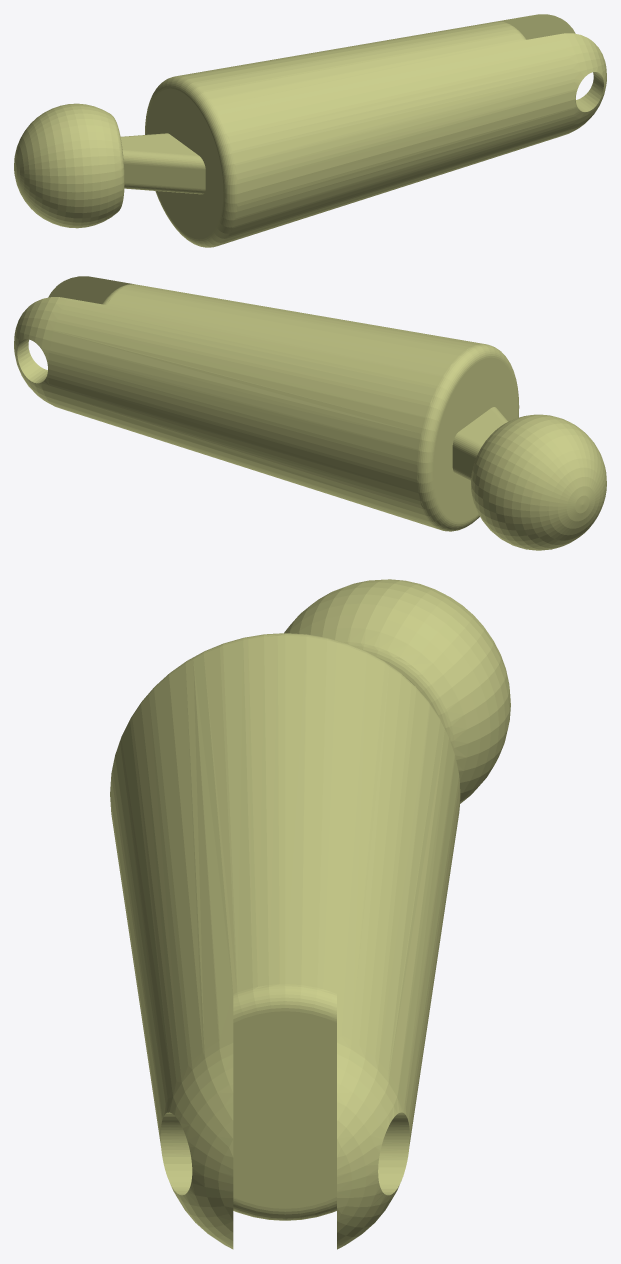
Rendered from case-04_lib00001.glb.
3 views of the same model, one above another, from view 1: azimuth 30°, elevation 25°; view 2: azimuth 150°, elevation 25°; view 3: azimuth 270°, elevation 25° (orthographic). The views are drawn at different scales.
Parts seen in each view (by area): view 1: lib00001; view 2: lib00001; view 3: lib00001.
Part boxes in pixels (x1,y1,x2,y2): lib00001: (14, 14, 606, 247); lib00001: (14, 276, 606, 550); lib00001: (110, 579, 510, 1249).
Size of the model in its own units: 78 by 21.67 by 24.8.
